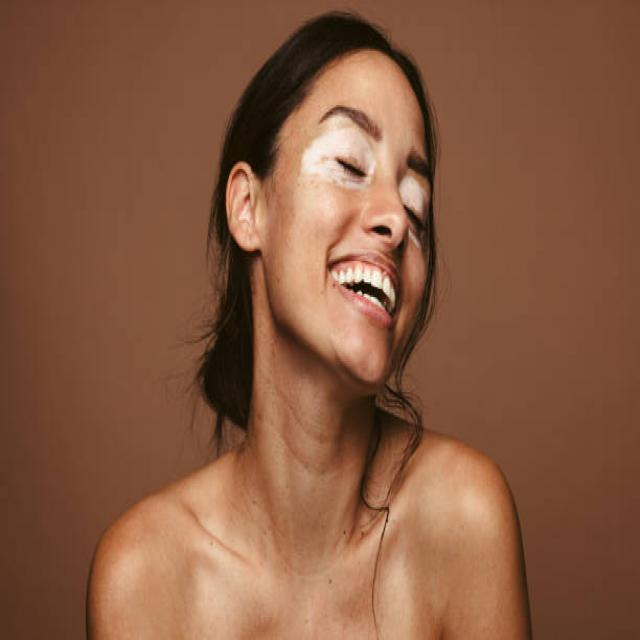vitiligo: (295, 108, 428, 263)
